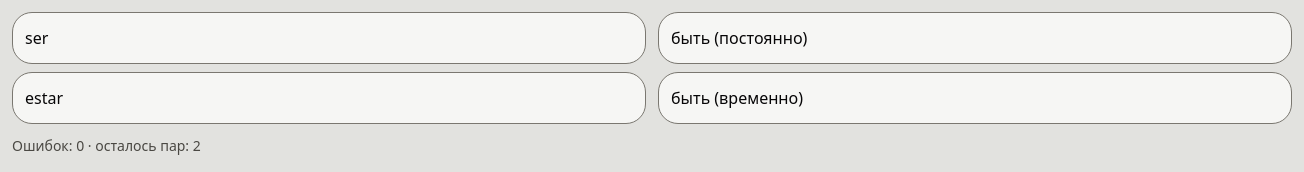
Test case: Match › selecting toggles aria-pressed; a wrong pair counts a mistake and is announced
Click the button "ser" at (37, 38), box [12,12,646,64]
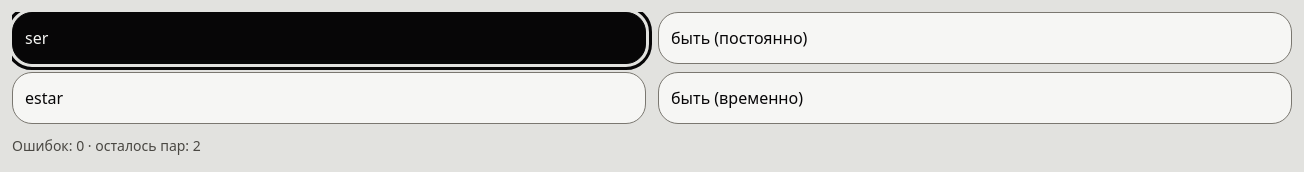
Expected: the button "ser" is pressed
Click the button "ser" at (37, 38), box [12,12,646,64]
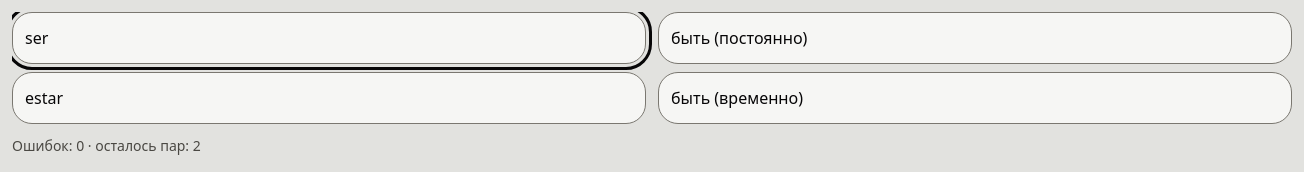
Expected: the button "ser" is not pressed
Click the button "ser" at (37, 38), box [12,12,646,64]
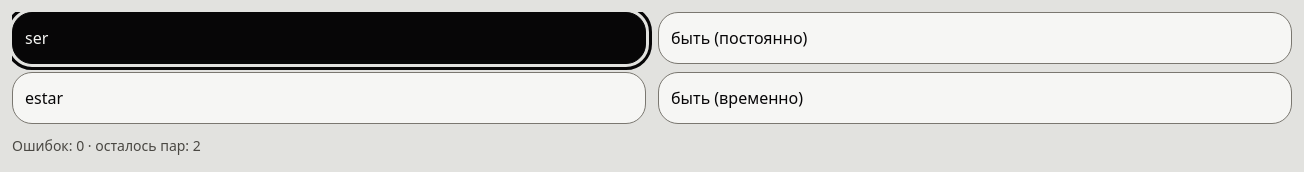
Click the button "быть (временно)" at (737, 98), box [658,72,1292,124]
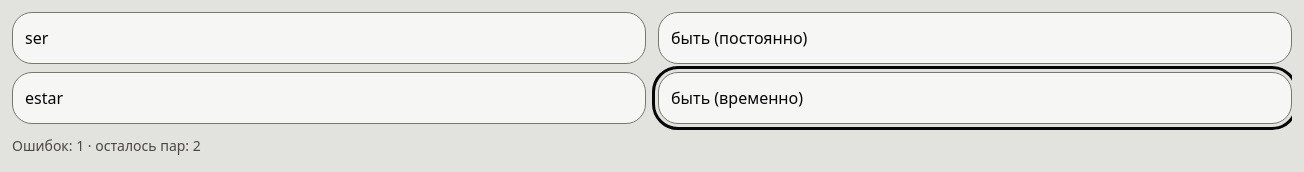
Expected: the text "Ошибок: 1 · осталось пар: 2" is shown, [12,136,201,155]
